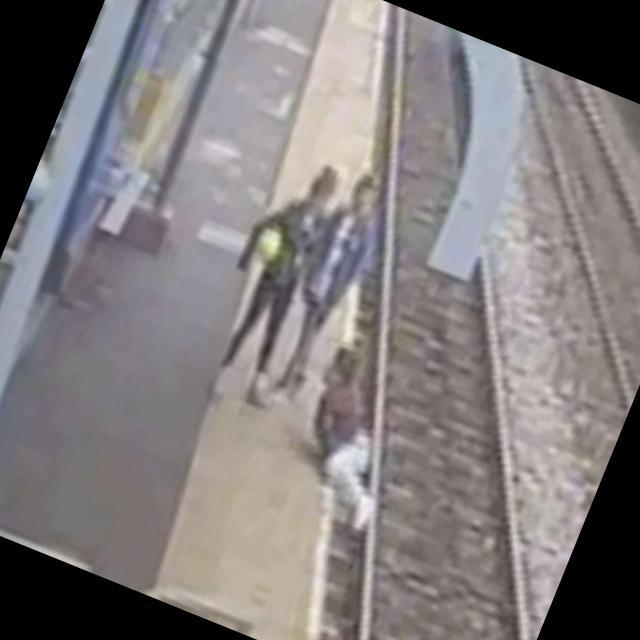person: (188, 109, 378, 428), (255, 325, 444, 564), (246, 152, 414, 417)
